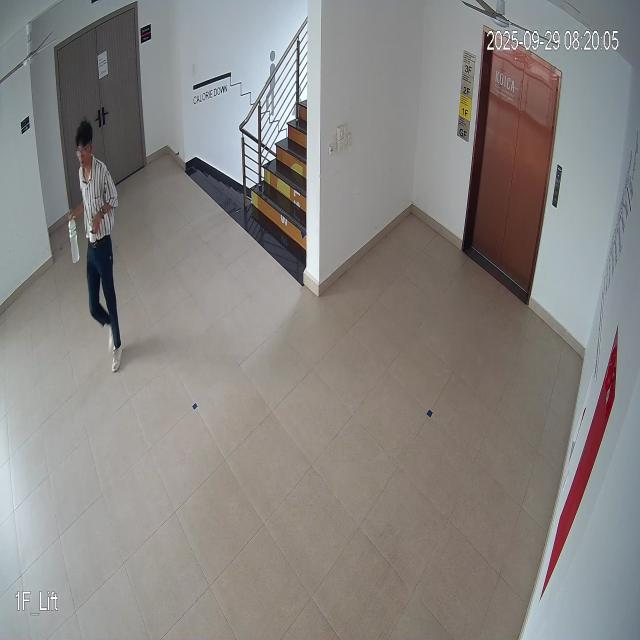face: (74, 120, 95, 172)
